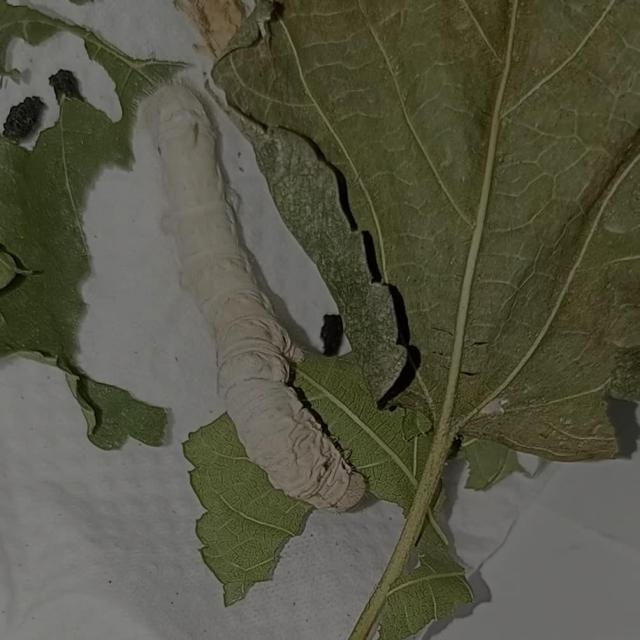Healthy: (114, 46, 392, 532)
